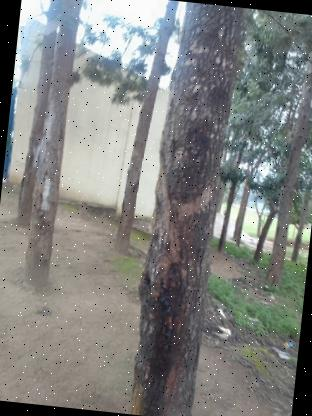tree: (112, 0, 258, 416), (10, 0, 95, 295), (247, 11, 312, 307)
